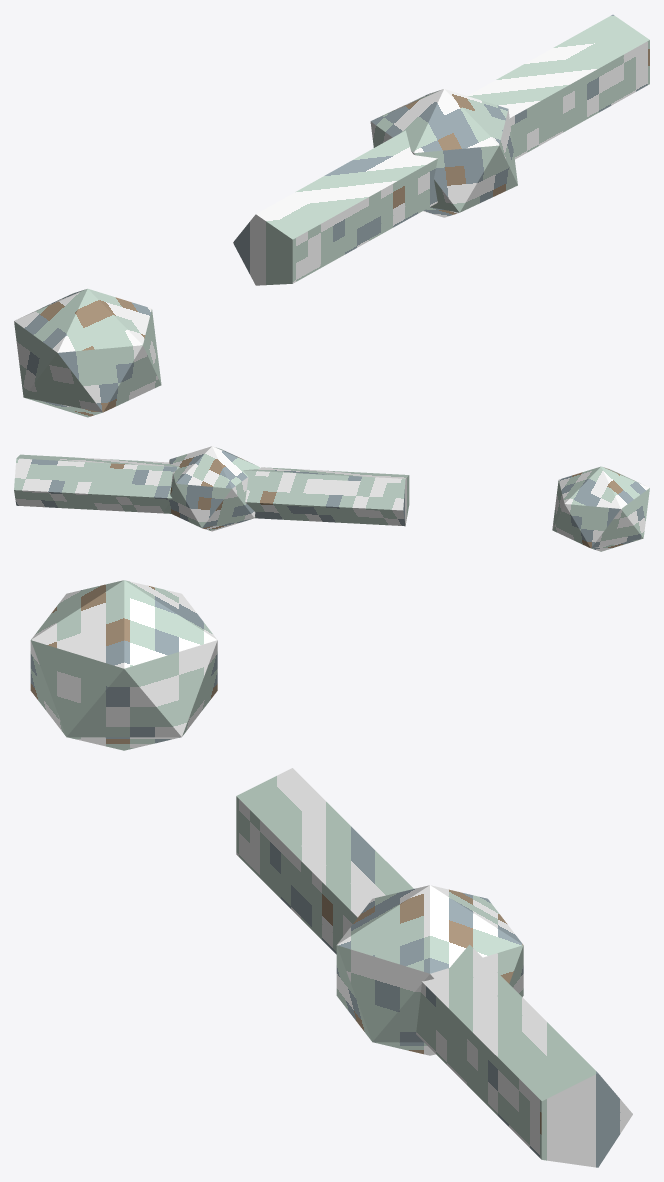
File: a74_parede_de_ossos.glb
The picture shows the model from 3 angles, top to bottom: view 1: azimuth 30°, elevation 25°; view 2: azimuth 150°, elevation 25°; view 3: azimuth 270°, elevation 25°; orthographic projection. The views are drawn at different scales.
Visible parts, largest first — view 1: a74_parede_de_ossos; view 2: a74_parede_de_ossos; view 3: a74_parede_de_ossos.
Part boxes in pixels (x1=…): a74_parede_de_ossos: x1=14, y1=14, x2=649, y2=417; a74_parede_de_ossos: x1=14, y1=446, x2=649, y2=551; a74_parede_de_ossos: x1=30, y1=580, x2=632, y2=1167.
Size of the model in its own units: 3.06 by 0.48 by 1.54.
1 material, 1 textured.
